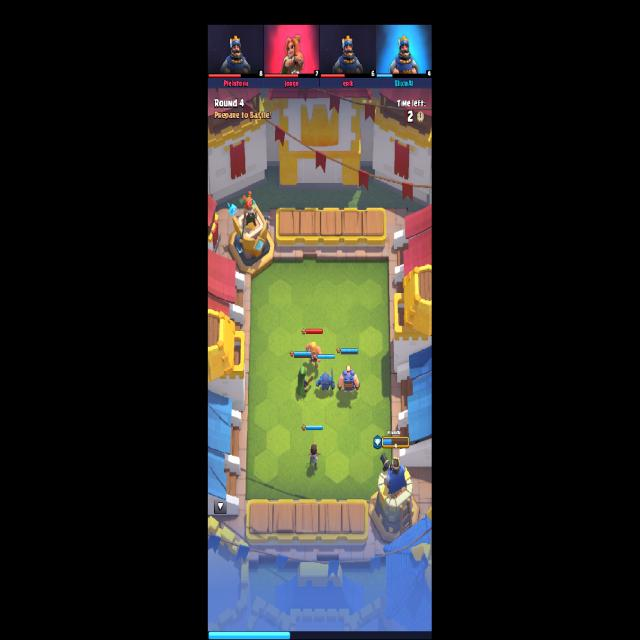bandit: (296, 365, 314, 397)
barbarian: (305, 341, 322, 365)
electro_giant: (338, 366, 361, 394)
mini_pekka: (316, 367, 336, 391)
princess: (307, 444, 321, 469)
